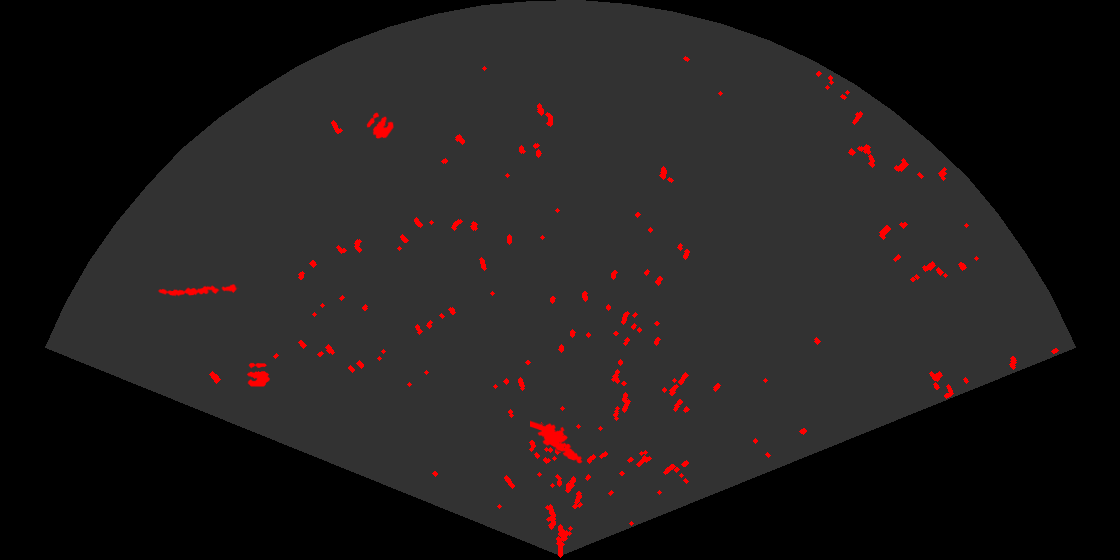ball: (365, 111, 395, 140), (245, 361, 271, 388)
chain: (157, 283, 239, 298)
frogman: (530, 419, 585, 465)
